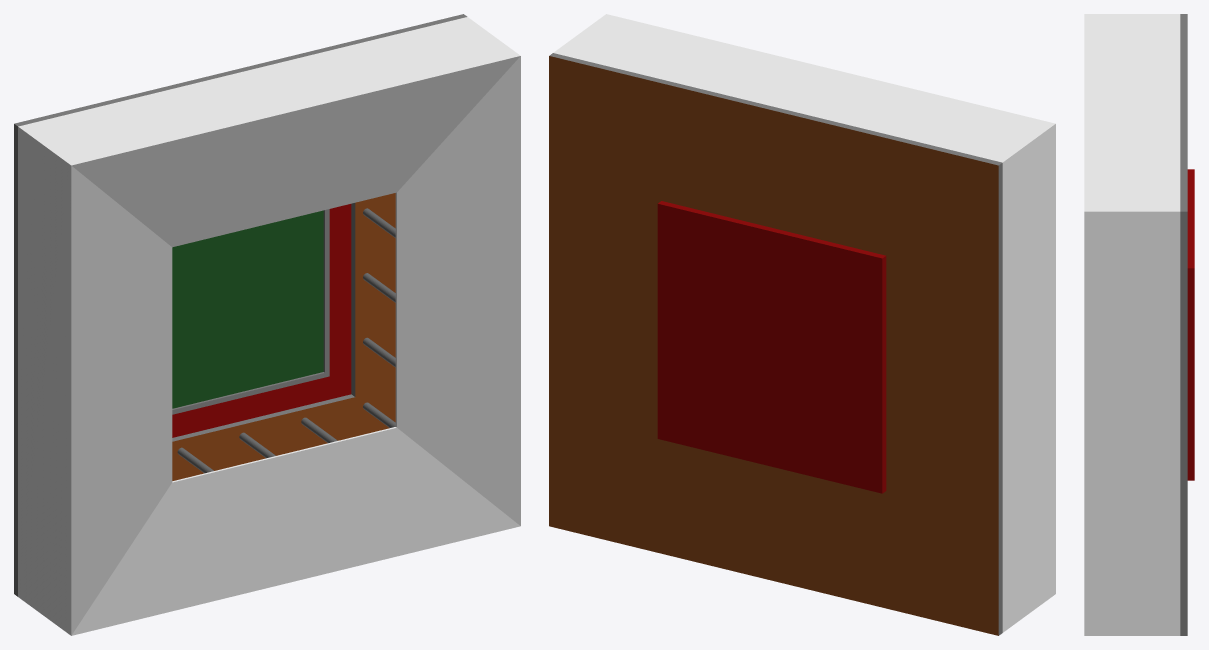
Rendered from lobby.obj.
3 renders of one model, left to right at view 1: azimuth 30°, elevation 25°; view 2: azimuth 150°, elevation 25°; view 3: azimuth 270°, elevation 25°, orthographic. The views are drawn at different scales.
Visible parts, largest first — view 1: roof, walls, grass, floor, passage, faces, pillars; view 2: floor, passage, walls, faces; view 3: walls, faces, passage.
Boxes of the visible parts, left/top/right/bottom form: roof: left=71, top=56, right=520, bottom=635; walls: left=18, top=17, right=520, bottom=635; grass: left=172, top=210, right=323, bottom=408; floor: left=172, top=193, right=395, bottom=480; passage: left=172, top=204, right=351, bottom=437; faces: left=14, top=14, right=467, bottom=596; pillars: left=177, top=208, right=395, bottom=473; floor: left=549, top=56, right=998, bottom=635; passage: left=657, top=201, right=886, bottom=493; walls: left=553, top=14, right=1055, bottom=632; faces: left=549, top=53, right=1002, bottom=635; walls: left=1084, top=14, right=1180, bottom=635; faces: left=1180, top=14, right=1187, bottom=635; passage: left=1187, top=169, right=1194, bottom=480.
Bounding box in the file's own units: 20 × 20 × 4.7.
